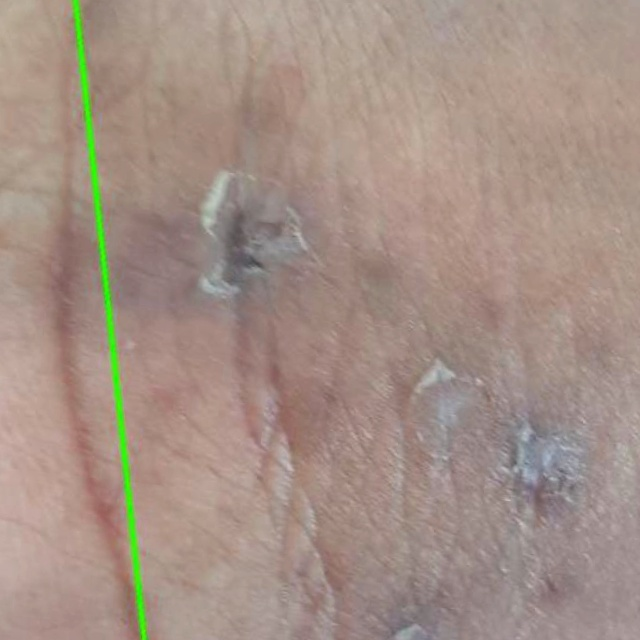Scabies: (0, 0, 143, 639)
